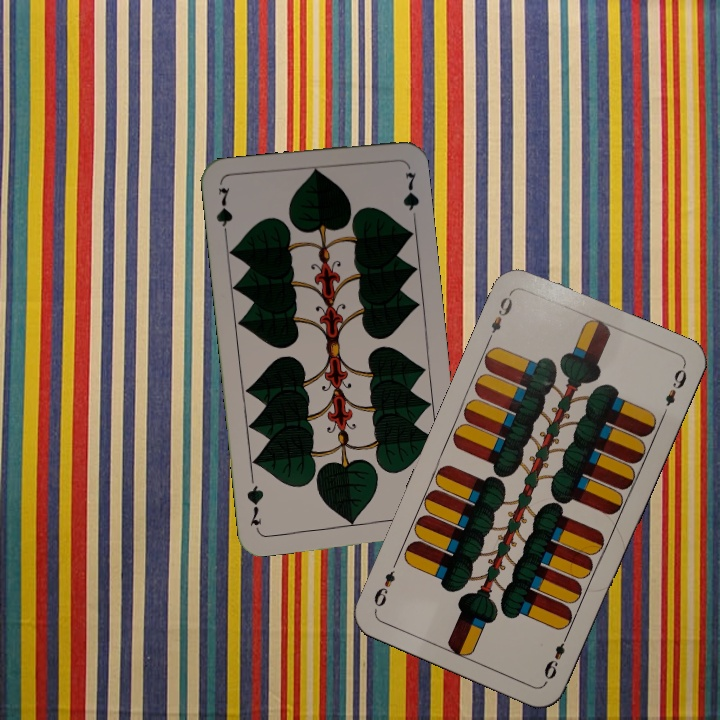E9: (483, 288, 515, 344), (540, 629, 572, 683)
G7: (212, 183, 235, 242)
